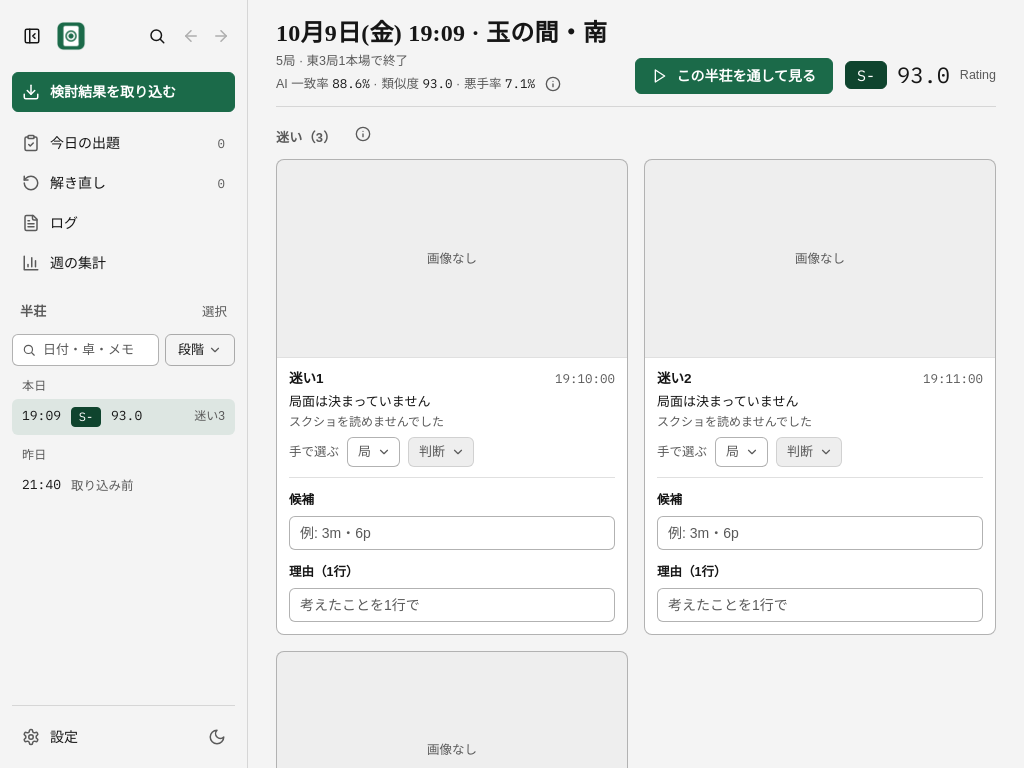
Scenario: 設定の「読み込む」と、検討画面の読み直し（D-2、R11-14） › 確認を開いている間は、裏の画面（サイドバーと本文）が操作できない。やめると、また操作できて、「読み込む」に戻る
This screenshot has width=1024, height=768.
Expected: the heading "10月9日(金) 19:09 · 玉の間・南" is shown, left=276, top=18, right=607, bottom=49
Click the button "設定": (104, 737) left=12, top=718, right=195, bottom=756
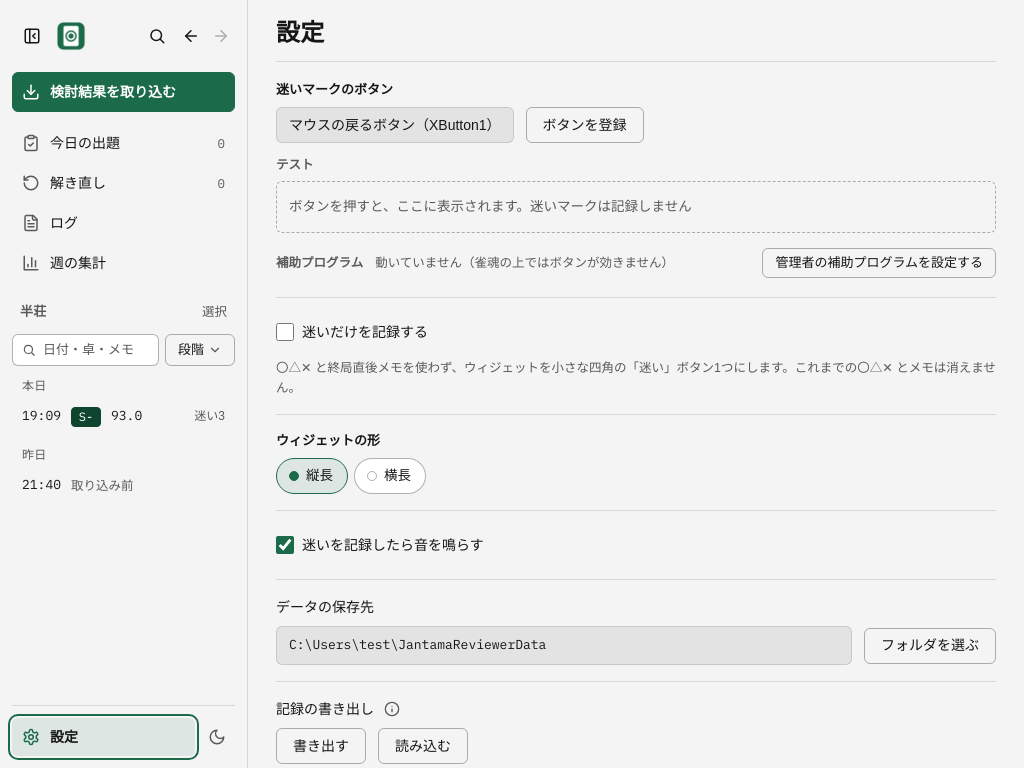
Click the button "読み込む": (423, 746) left=378, top=728, right=468, bottom=764
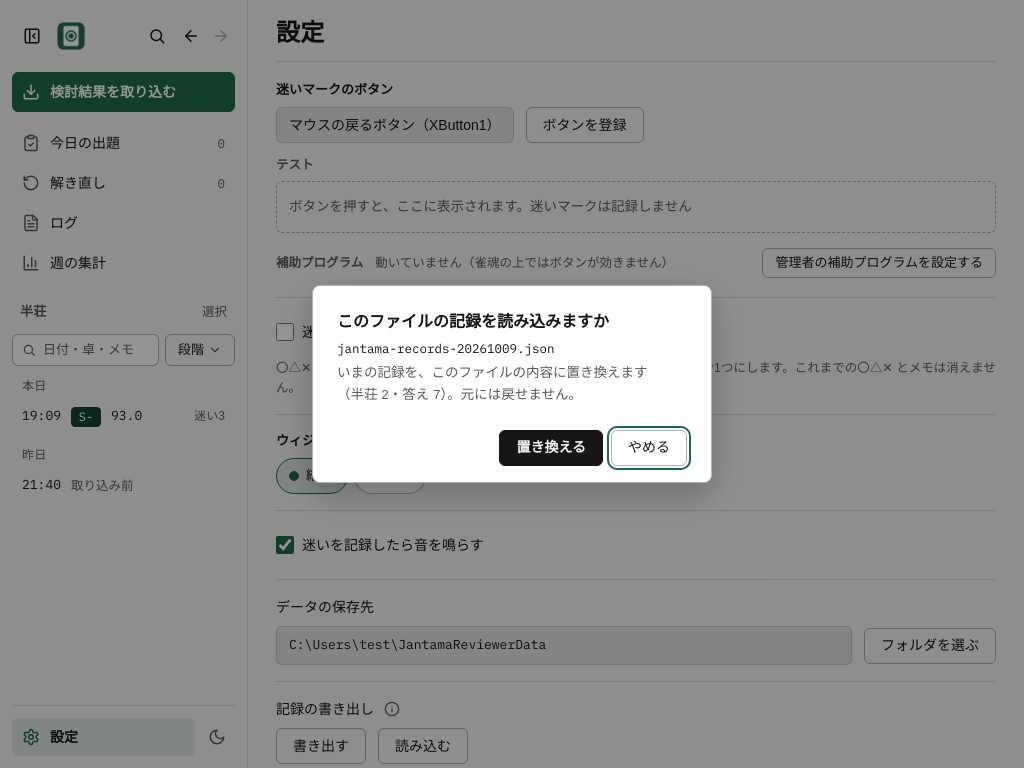
Press Escape
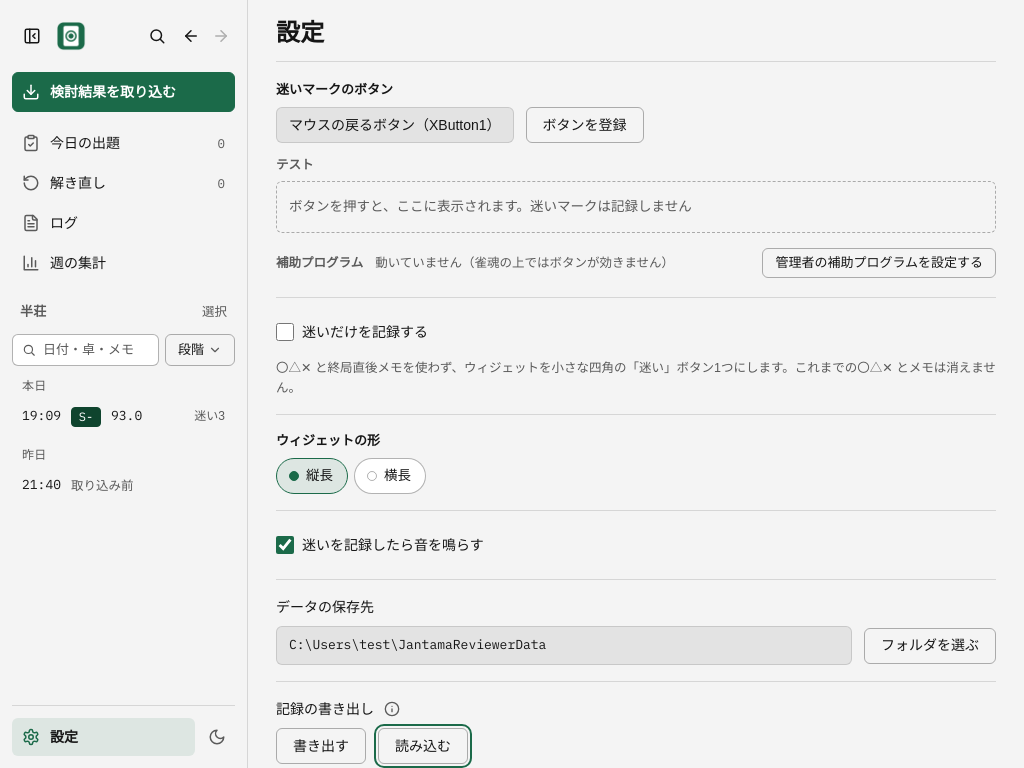
Result: the dialog is gone
